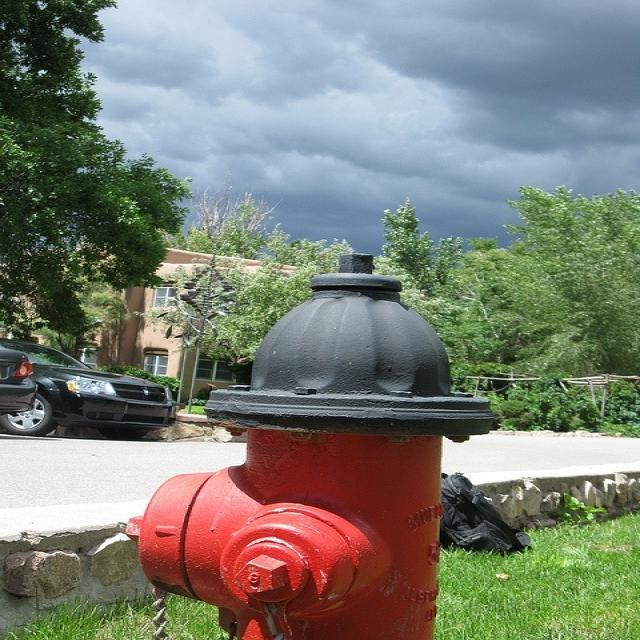fire_hydrant: (147, 210, 478, 636)
